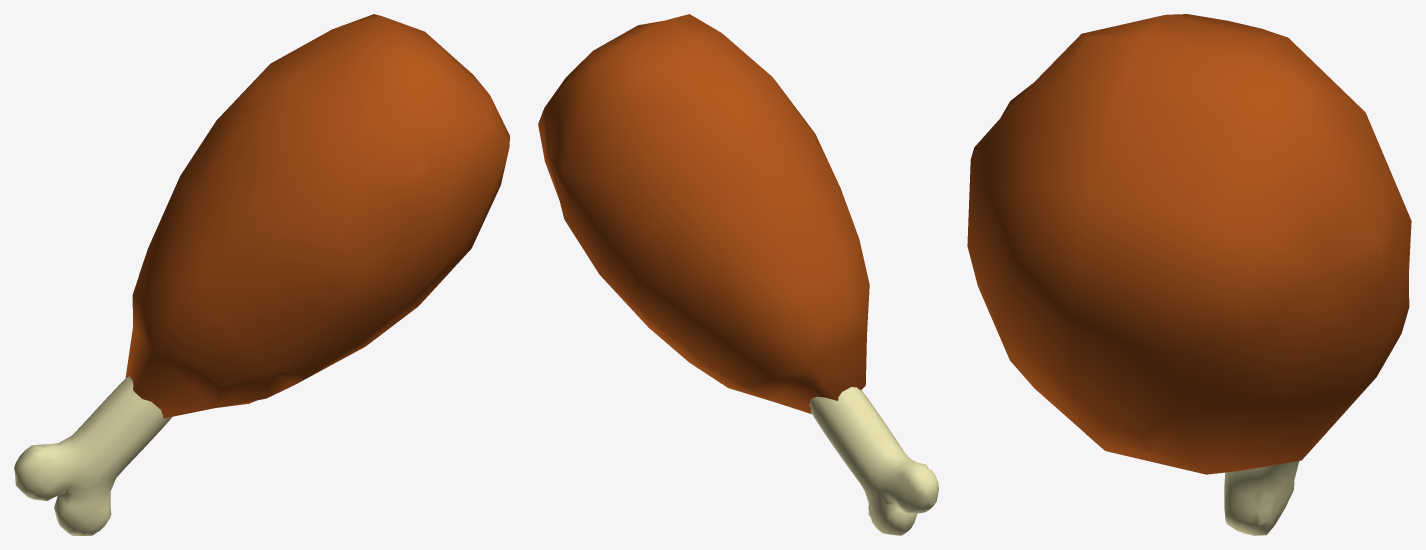
The model's file is meat.glb.
3 views of the same model, side by side, from view 1: azimuth 30°, elevation 25°; view 2: azimuth 150°, elevation 25°; view 3: azimuth 270°, elevation 25° (orthographic). The views are drawn at different scales.
Parts seen in each view (by area): view 1: Cube.002; view 2: Cube.002; view 3: Cube.002.
Part boxes in pixels (left/top/right/bottom): Cube.002: left=14, top=14, right=509, bottom=535; Cube.002: left=538, top=14, right=938, bottom=535; Cube.002: left=967, top=14, right=1411, bottom=535.
Size of the model in its own units: 1.79 by 1.77 by 1.
